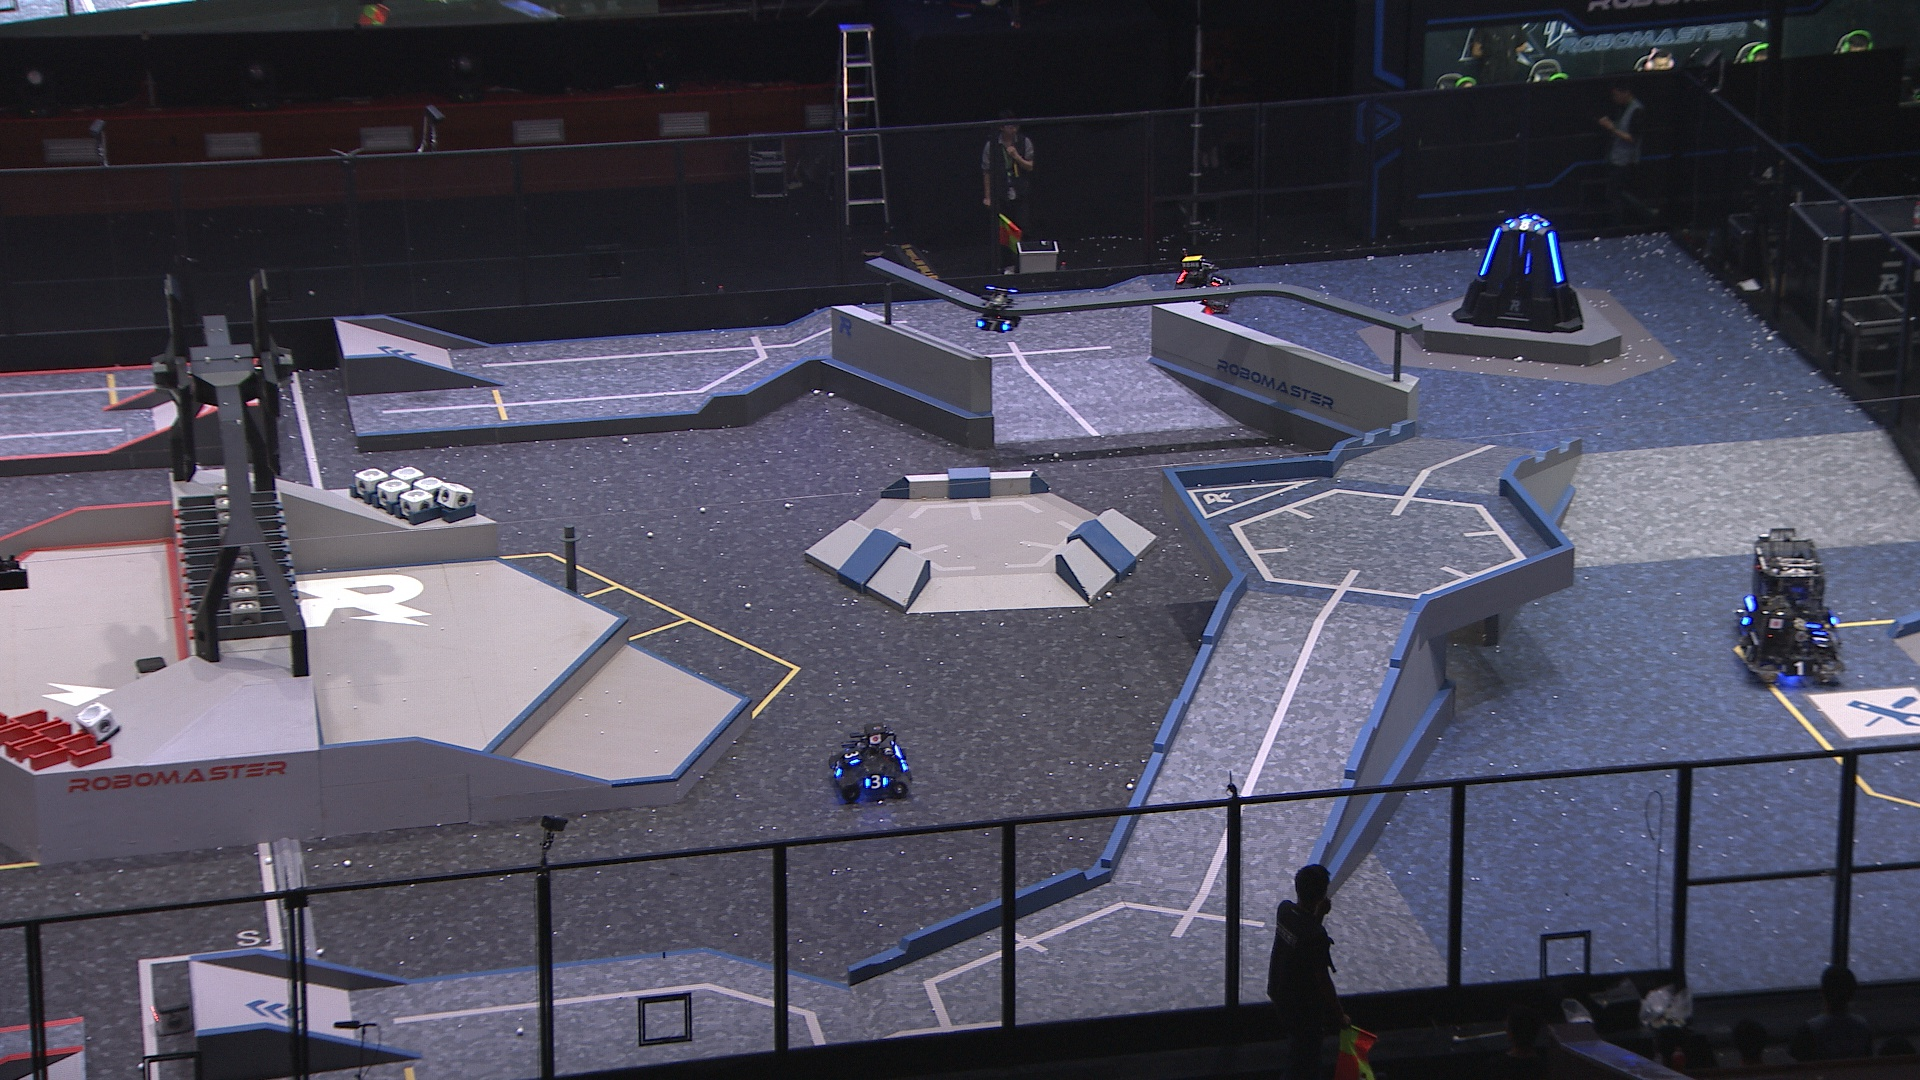armor: (1477, 228, 1501, 278), (1545, 229, 1565, 282), (1779, 659, 1821, 678), (1509, 216, 1542, 232), (977, 318, 1010, 334), (862, 773, 889, 790), (1811, 629, 1830, 647), (843, 749, 862, 765), (1207, 272, 1226, 287), (1741, 641, 1756, 659), (831, 757, 843, 779), (1518, 232, 1528, 256)
base: (1449, 214, 1585, 334)
car: (1731, 526, 1842, 647), (1738, 593, 1850, 687), (827, 721, 913, 800), (1168, 251, 1238, 313)
watcher: (975, 285, 1022, 334)
